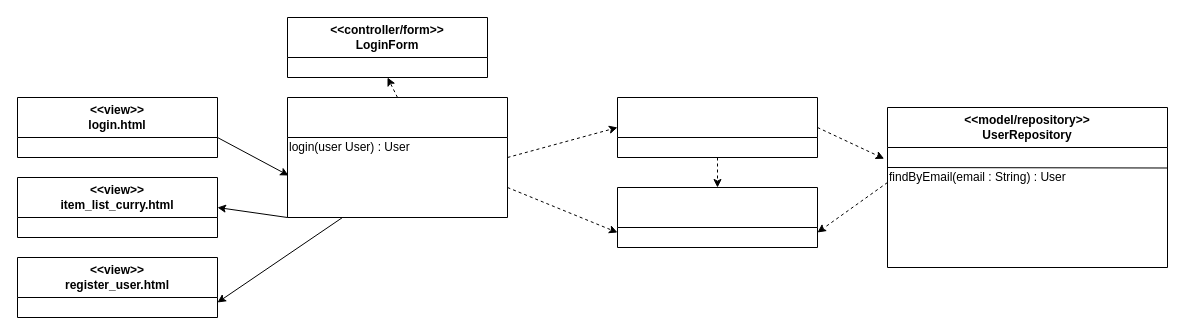
Image size: 1186x335. Some labels were removed from this diagram. The shapes that lost their labels are listed below. From the top down, each one's box as (x1, y1, x2, y2) in pixels, then its label:
(616, 96, 818, 158): <<model/service>> LoginService
(286, 96, 508, 218): <<controller/controller>> LoginContainer
(616, 186, 818, 248): <<model/domain>> User
